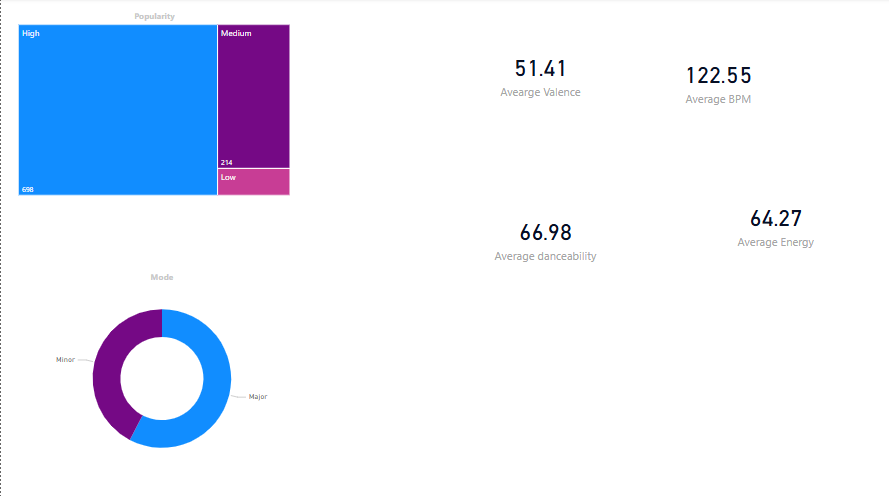

Layout of this report page (visuals, bound fields, positions):
{"tool":"powerbi","page":{"name":"Page 1","canvas":[1280,720],"ordinal":0},"visuals":[{"type":"card","fields":{"Values":["spotify-2023.Avearge Valence"]},"box":[640,0,275.5,216.7],"z":1000},{"type":"card","fields":{"Values":["spotify-2023.Average BPM"]},"box":[888.6,0,288.9,238.5],"z":2000},{"type":"card","fields":{"Values":["spotify-2023.Average danceability"]},"box":[651.8,238.5,263.7,213.3],"z":3000},{"type":"card","fields":{"Values":["spotify-2023.Average Energy"]},"box":[964.2,213.3,302.4,223.4],"z":4000},{"type":"donutChart","title":"Mode","fields":{"Category":["spotify-2023.mode"],"Y":["CountNonNull(spotify-2023.mode)"]},"box":[20.2,393.1,423.3,294],"z":5000},{"type":"treemap","title":"Popularity ","fields":{"Group":["spotify-2023.Popularity Category"],"Values":["CountNonNull(spotify-2023.Popularity Category)"]},"box":[20.2,16.8,401.5,272.1],"z":6000}]}

Visuals, with their boxes in screenshot pixels (x1, y1, x2, y2), scaled from the page's 1280x720 canvas onto the 889x496 screenshot:
card - spotify-2023.Avearge Valence: detection(444, 0, 636, 149)
card - spotify-2023.Average BPM: detection(617, 0, 818, 164)
card - spotify-2023.Average danceability: detection(453, 164, 636, 311)
card - spotify-2023.Average Energy: detection(670, 147, 880, 301)
"Mode" donutChart: detection(14, 271, 308, 473)
"Popularity " treemap: detection(14, 12, 293, 199)
